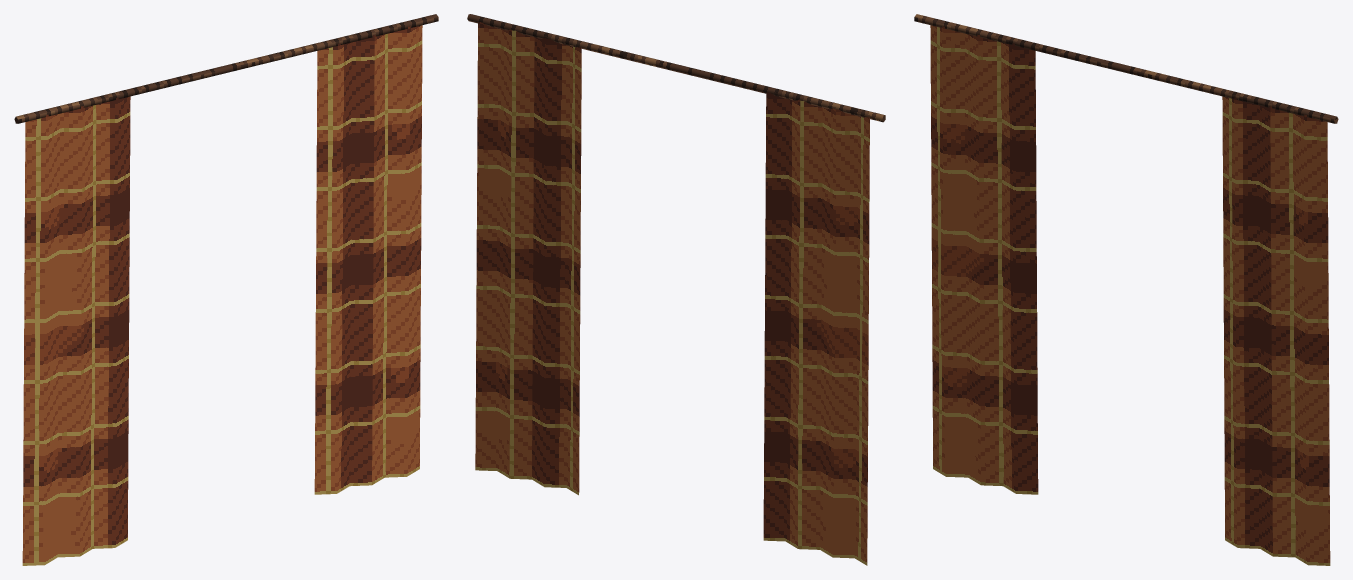
The model's file is RES_Curtains_Plaid.obj.
3 views of the same model, side by side, from view 1: azimuth 30°, elevation 25°; view 2: azimuth 150°, elevation 25°; view 3: azimuth 330°, elevation 25° (orthographic).
Parts seen in each view (by area): view 1: RES_Curtains_Plaid_Mesh_M_Res_FabricPlaid, RES_Curtains_Plaid_Mesh_M_Furn_WoodDark; view 2: RES_Curtains_Plaid_Mesh_M_Res_FabricPlaid, RES_Curtains_Plaid_Mesh_M_Furn_WoodDark; view 3: RES_Curtains_Plaid_Mesh_M_Res_FabricPlaid, RES_Curtains_Plaid_Mesh_M_Furn_WoodDark.
Boxes of the visible parts, x1,y1,x2,y2 form: RES_Curtains_Plaid_Mesh_M_Res_FabricPlaid: [22, 25, 422, 565]; RES_Curtains_Plaid_Mesh_M_Furn_WoodDark: [14, 14, 438, 123]; RES_Curtains_Plaid_Mesh_M_Res_FabricPlaid: [475, 22, 869, 565]; RES_Curtains_Plaid_Mesh_M_Furn_WoodDark: [467, 14, 885, 122]; RES_Curtains_Plaid_Mesh_M_Res_FabricPlaid: [930, 25, 1330, 565]; RES_Curtains_Plaid_Mesh_M_Furn_WoodDark: [914, 14, 1338, 123].
Bounding box in the file's own units: 1.8 × 1.86 × 0.055.
Materials: 2 (2 with a texture image).
